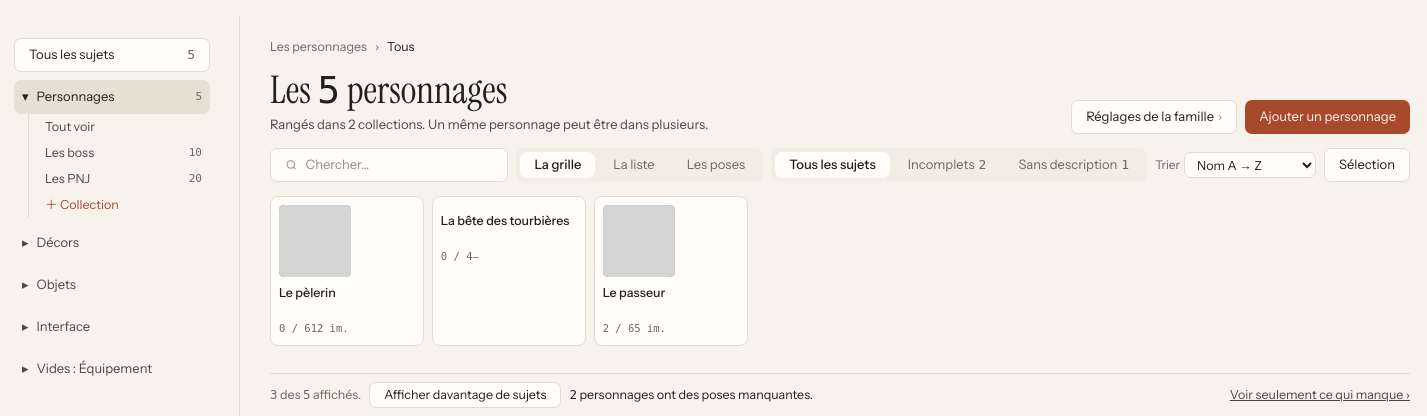
it: la recherche et les filtres partent au serveur › le lien « Voir seulement ce qui manque » bascule sur le filtre des incomplets
(page scrolled)
Check: the heading "Les 5 personnages" is shown, box [270,65,507,115]
Click the button "Voir seulement ce qui manque ›".
click(1320, 395)  # box [1230,386,1410,404]
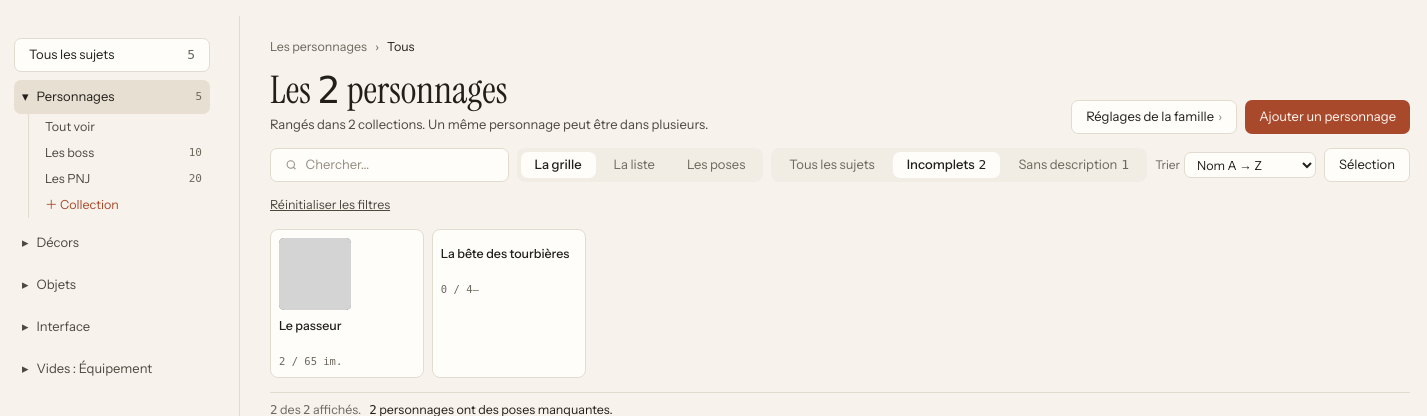
Check: the button "Voir seulement ce qui manque" is gone
